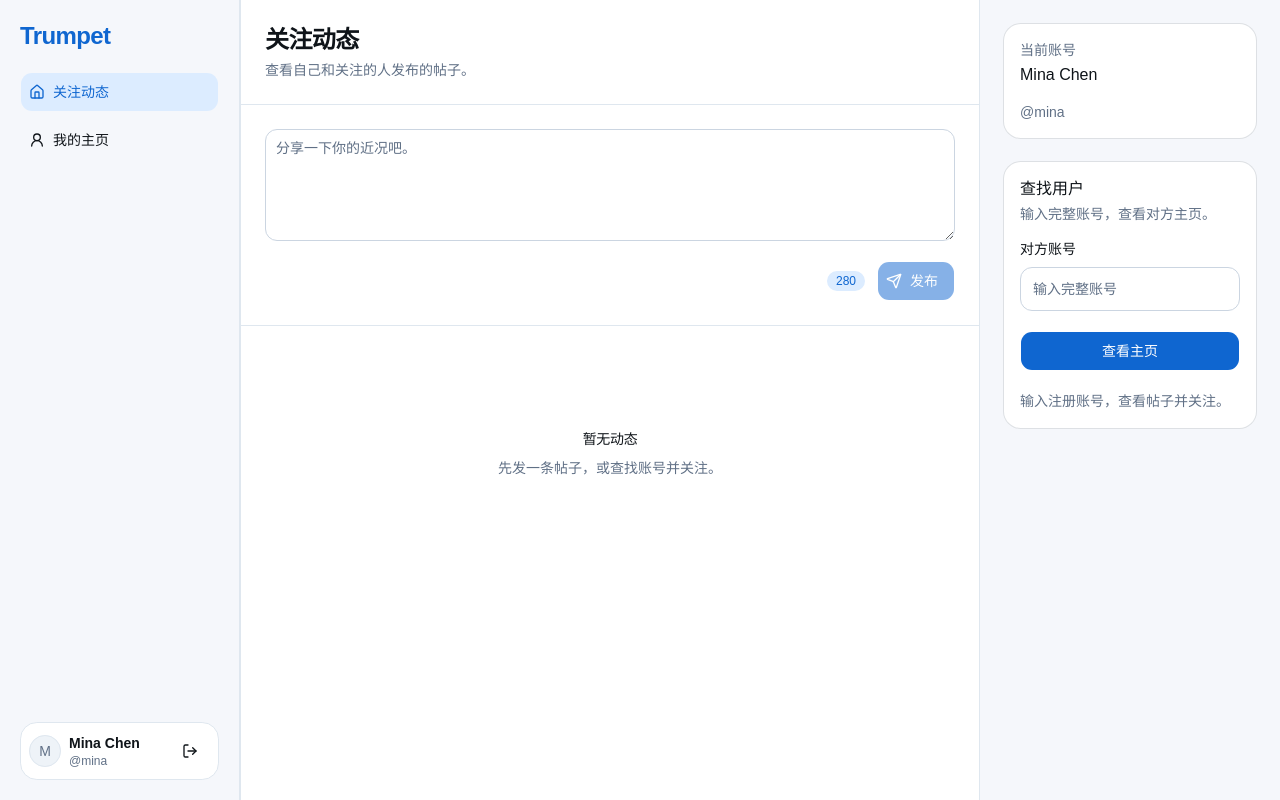
Test: App authentication › logs out and returns to the auth form
Check: the heading "关注动态" is shown, box [265, 26, 359, 53]
What coordinates should you click on to do the following:
click the button named "退出登录"
I would click on:
 (190, 751)
Its box is [170, 731, 210, 771].
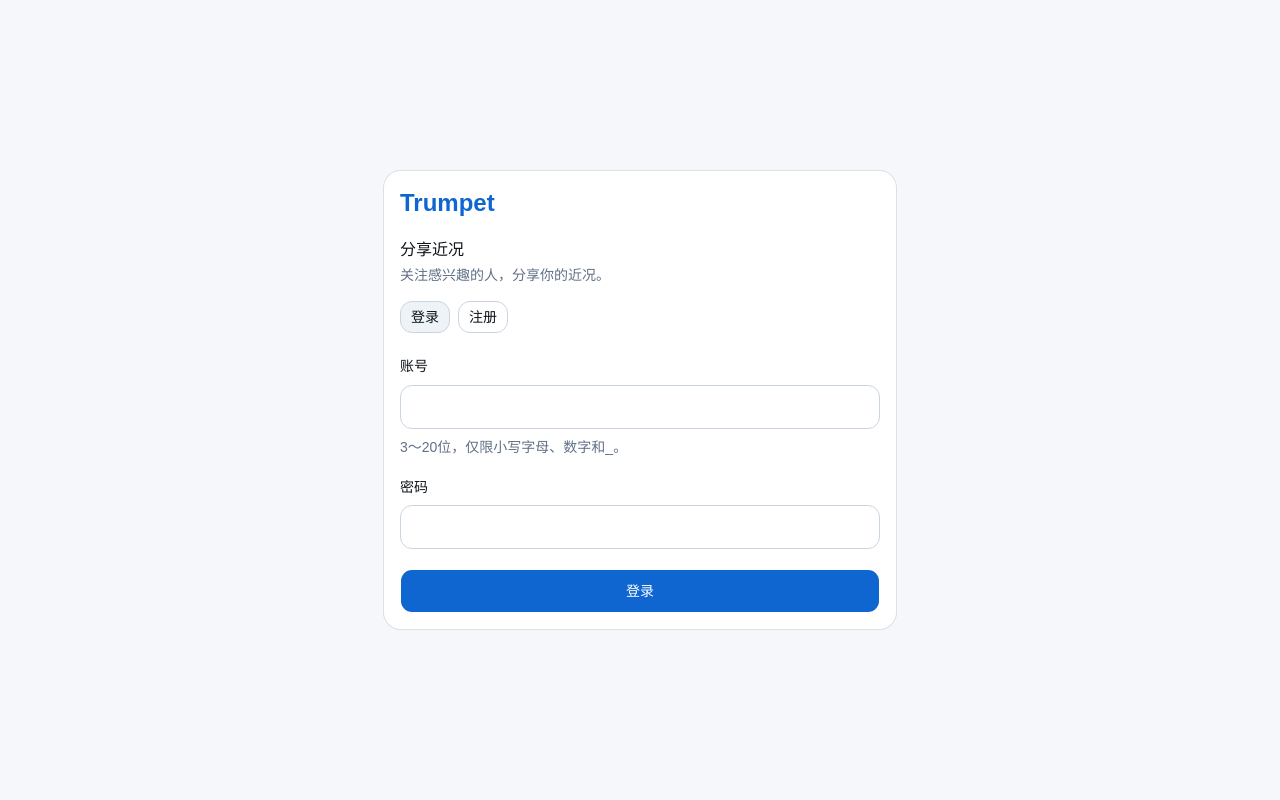
Check: the heading "分享近况" is shown, box [400, 241, 464, 258]
